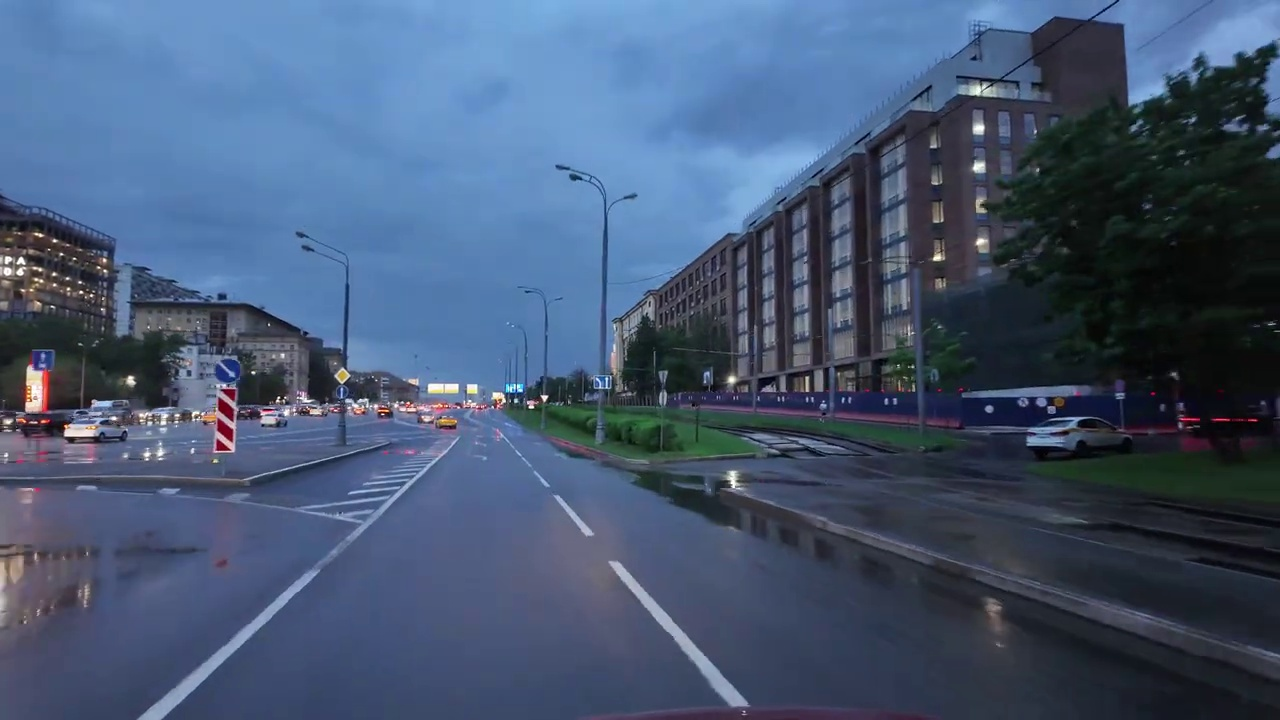apagada: (550, 161, 587, 189), (291, 229, 318, 257), (619, 187, 640, 207)
